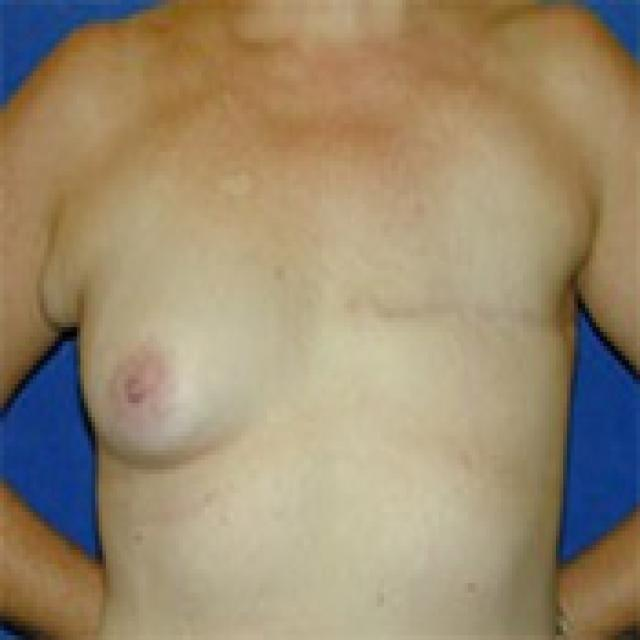Seno herido: (330, 201, 582, 498)
Seno ileso: (73, 202, 324, 498)
